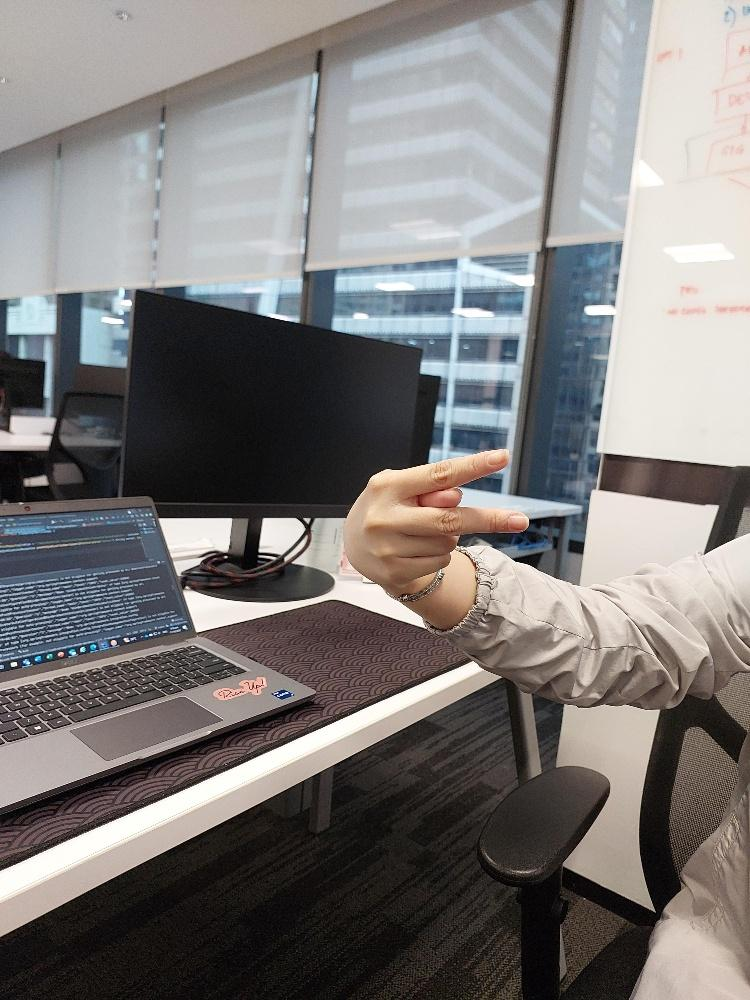k: (342, 447, 530, 584)
